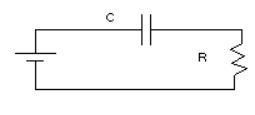Capacitor: (127, 8, 160, 54)
